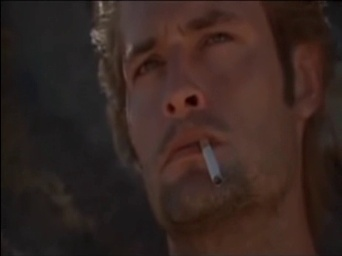smoke: (199, 137, 221, 186)
